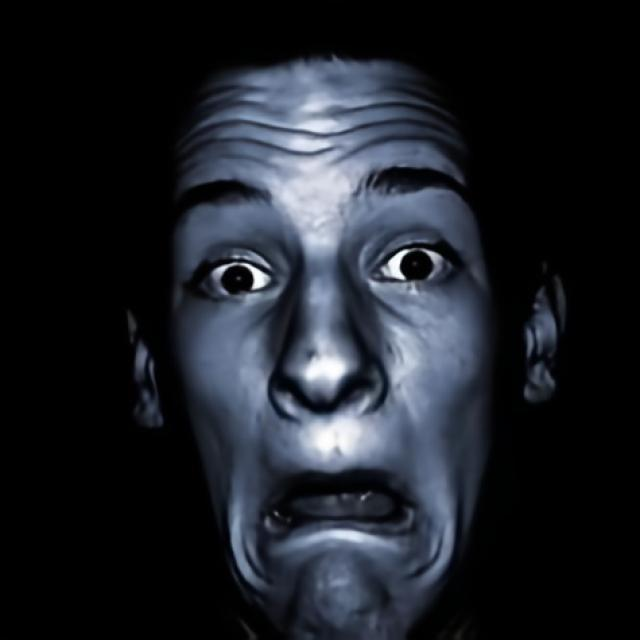fear: (169, 49, 500, 640)
